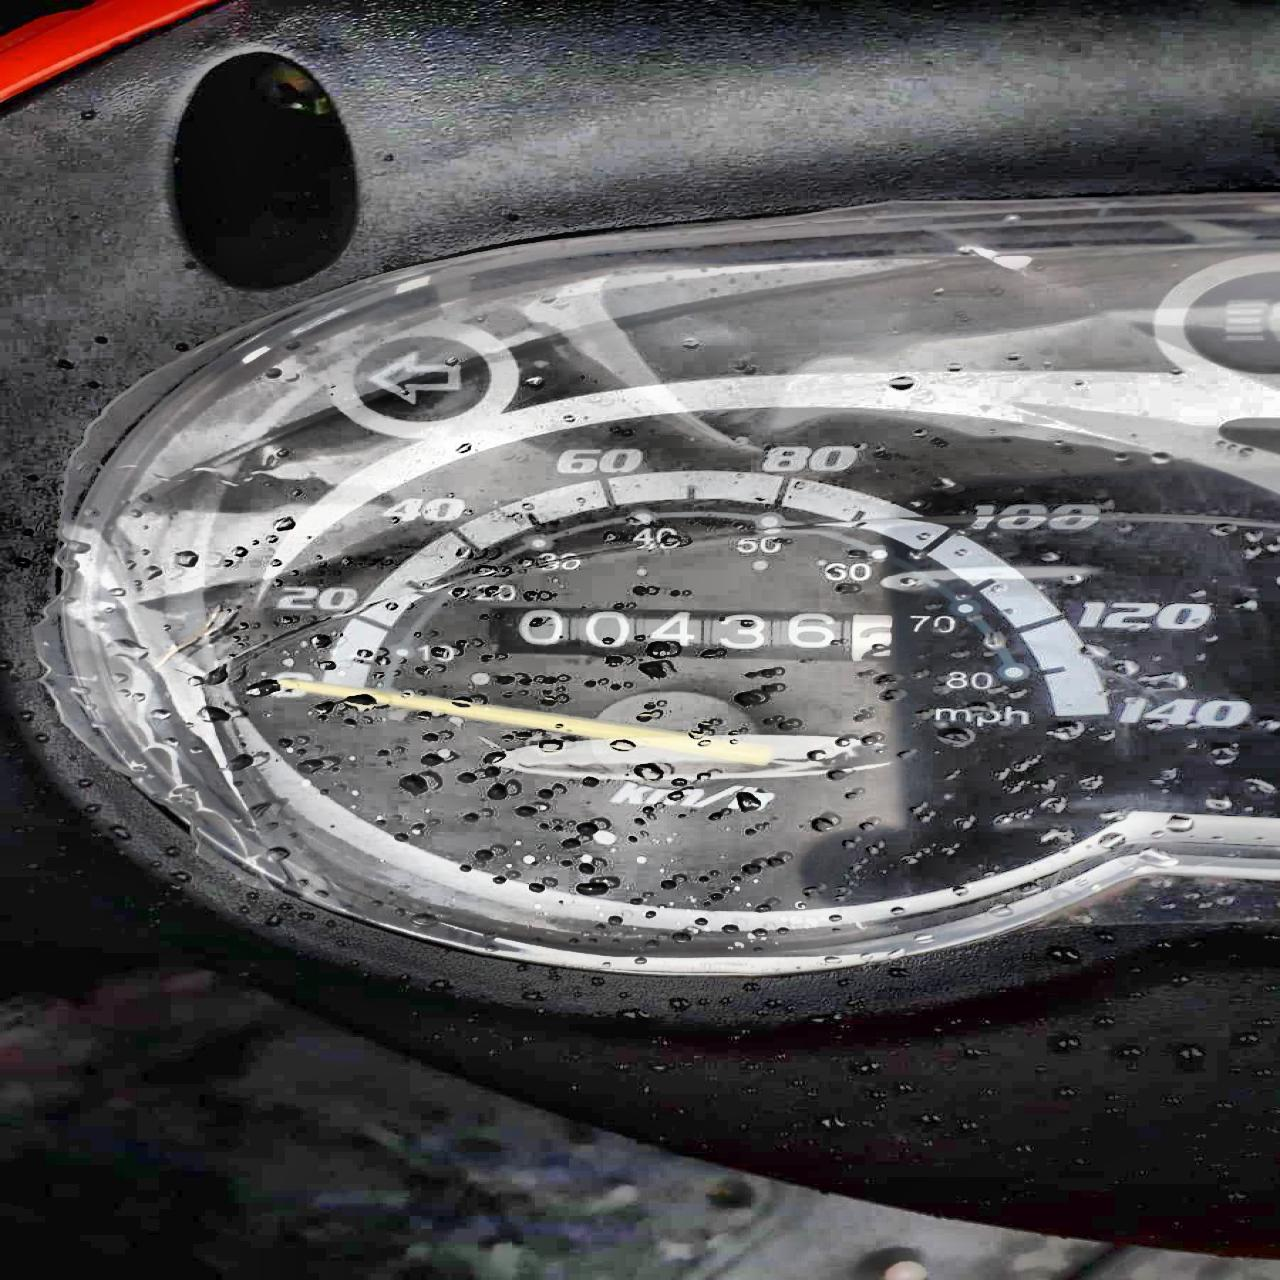0: (583, 610, 629, 647), (519, 608, 563, 645)
2: (856, 626, 899, 660)
3: (715, 613, 765, 649)
4: (647, 612, 696, 647)
6: (785, 613, 835, 648)
odometer: (481, 606, 900, 663)
